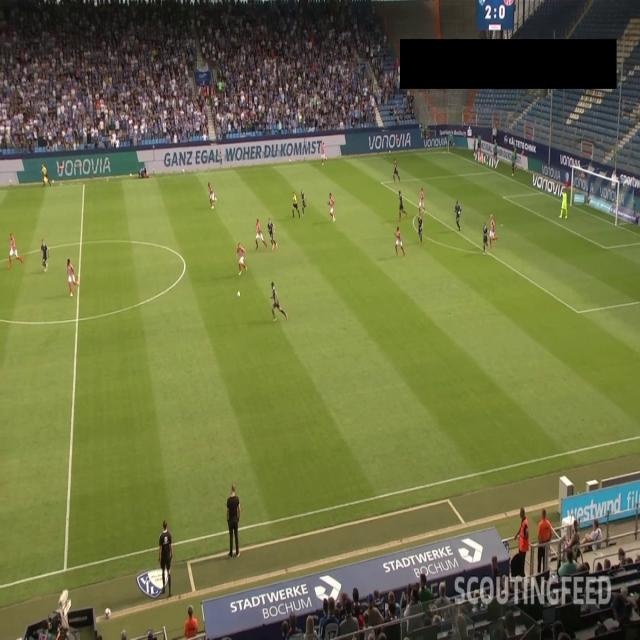ball: (234, 288, 242, 302)
player: (269, 280, 287, 321), (65, 257, 79, 297), (8, 232, 21, 273), (254, 215, 266, 254), (236, 241, 248, 276), (207, 180, 217, 215), (327, 191, 337, 225), (265, 218, 276, 248), (398, 190, 407, 224), (395, 225, 404, 257), (489, 213, 498, 245), (41, 237, 49, 272), (482, 219, 490, 251), (454, 201, 462, 229), (561, 189, 568, 220), (319, 142, 327, 166), (300, 189, 308, 213), (393, 156, 399, 184), (418, 215, 424, 243), (418, 184, 423, 214)
